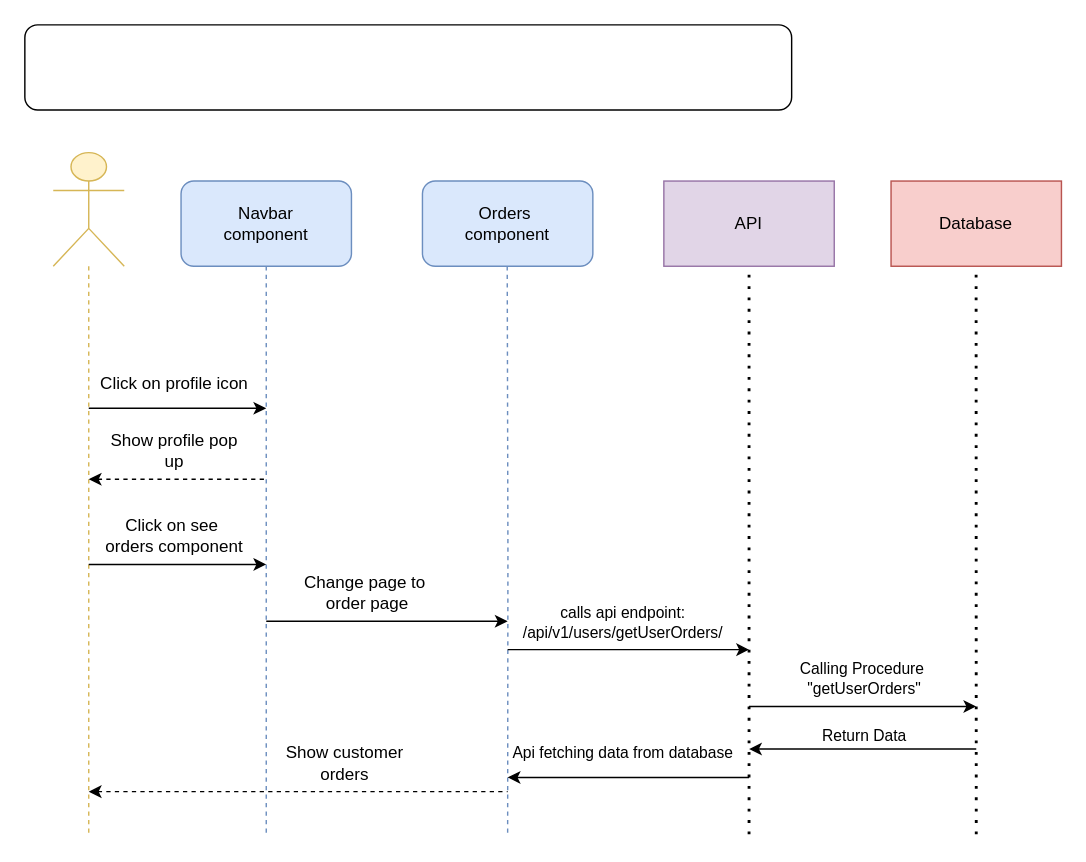
The diagram is 1086 pixels wide and 862 high, and some of its shapes have lost their labels. The centre of each missing label's shape, as x and y in pixels:
"Customer" belongs at point 88,208.
"Sequence diagram for customer to see their order" belongs at point 407,66.
